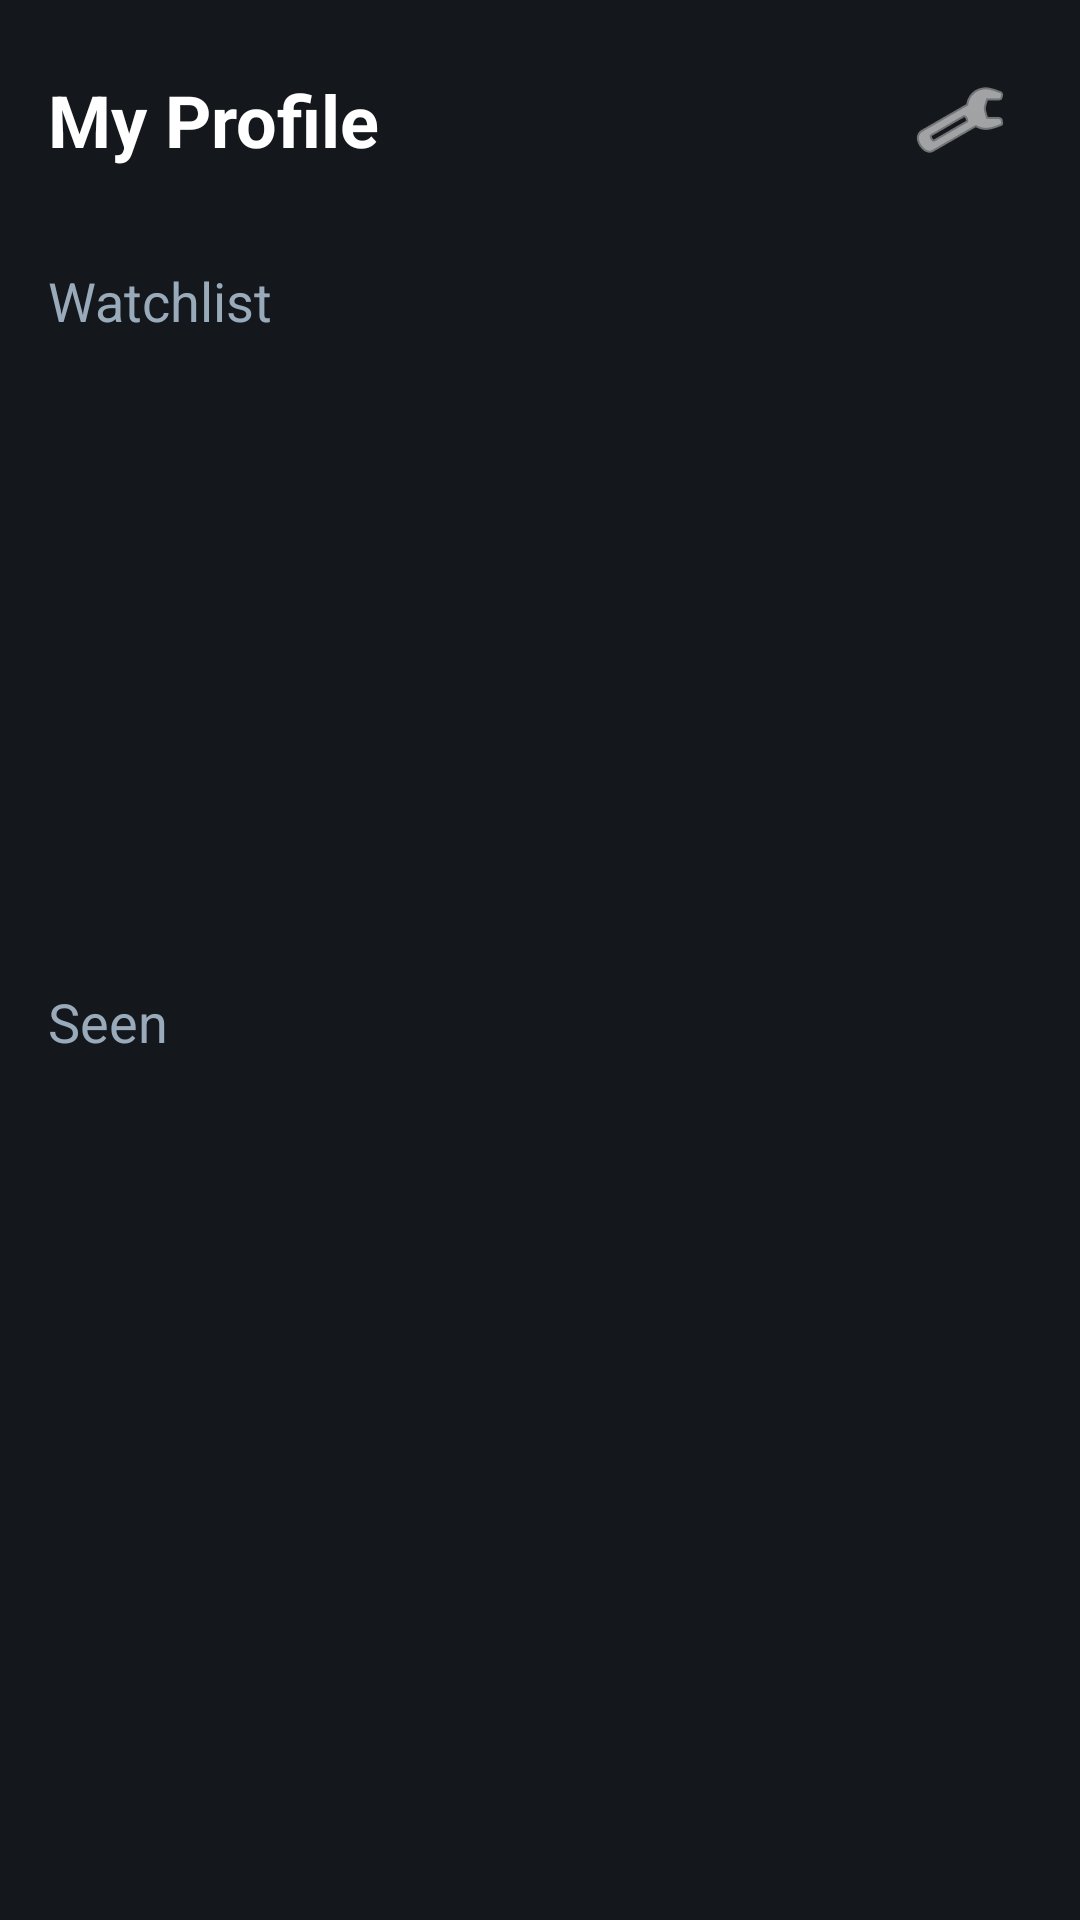

Where to tap for icons on this 1080 x 1920 app screen, as [x,y]:
Settings: [960,120]
